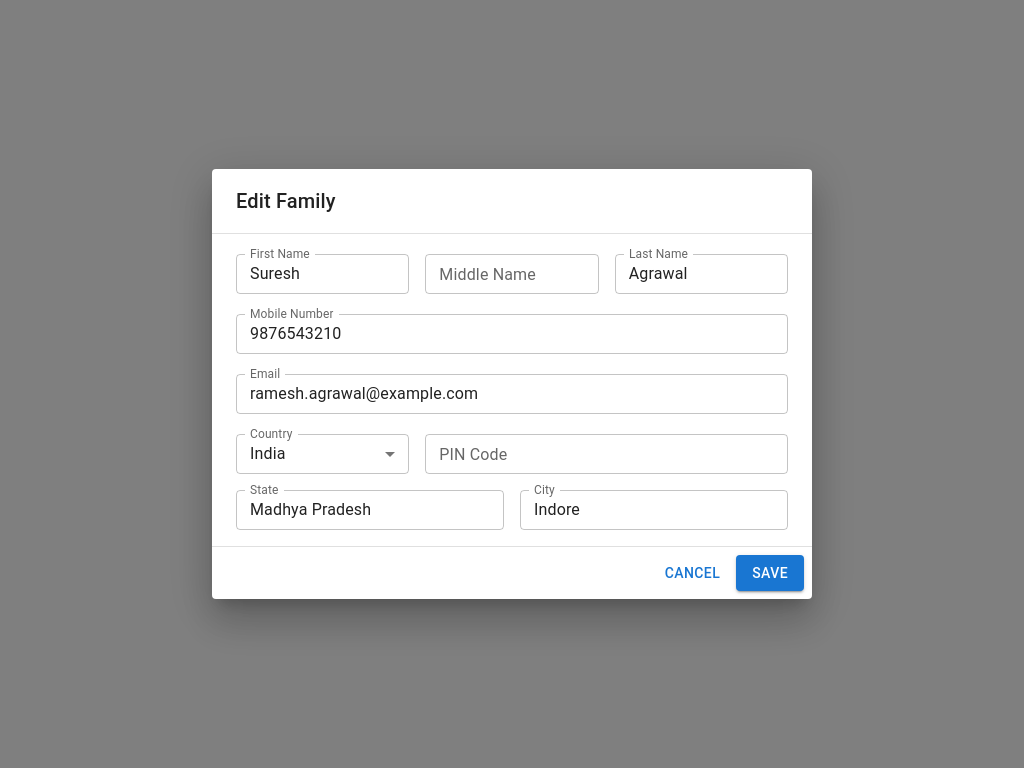
Test case: EditFamilyDialog › auto-fills State/City from a known PIN code, same as the registration wizard
Type "462001" into the field labelled "PIN Code".
click(607, 454); type("462001")  # box top-left (425, 434), bottom-right (788, 474)
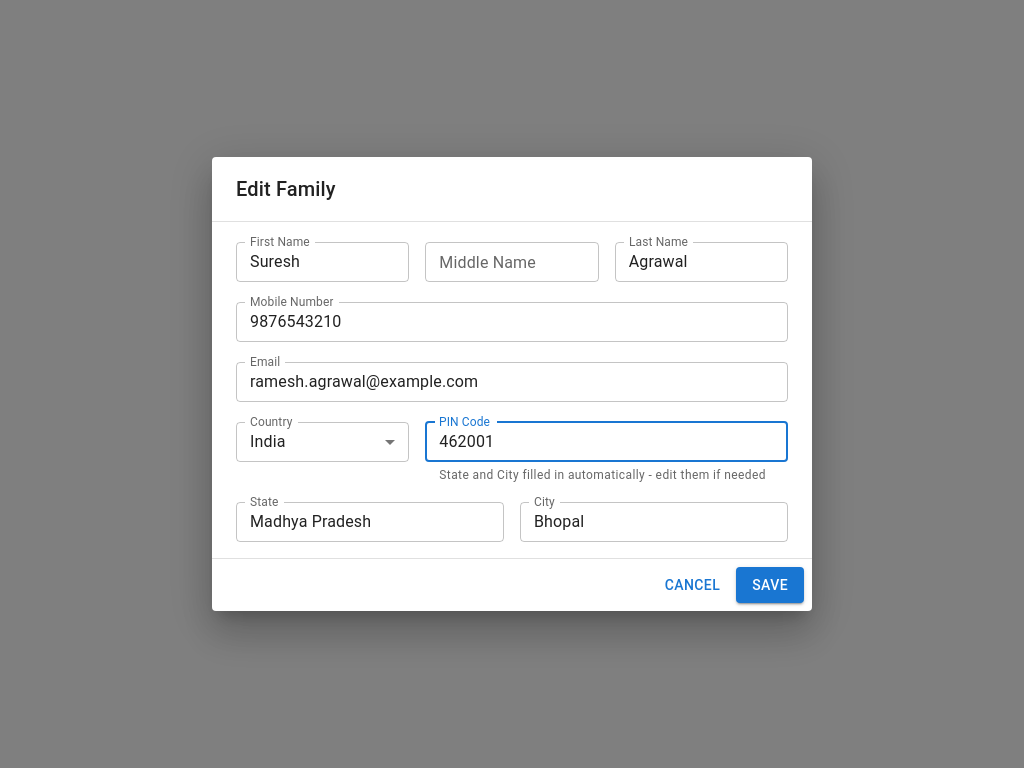
Expected: the field labelled "State" holds "Madhya Pradesh", top-left (236, 502), bottom-right (504, 542)
Expected: the field labelled "City" holds "Bhopal", top-left (520, 502), bottom-right (788, 542)
